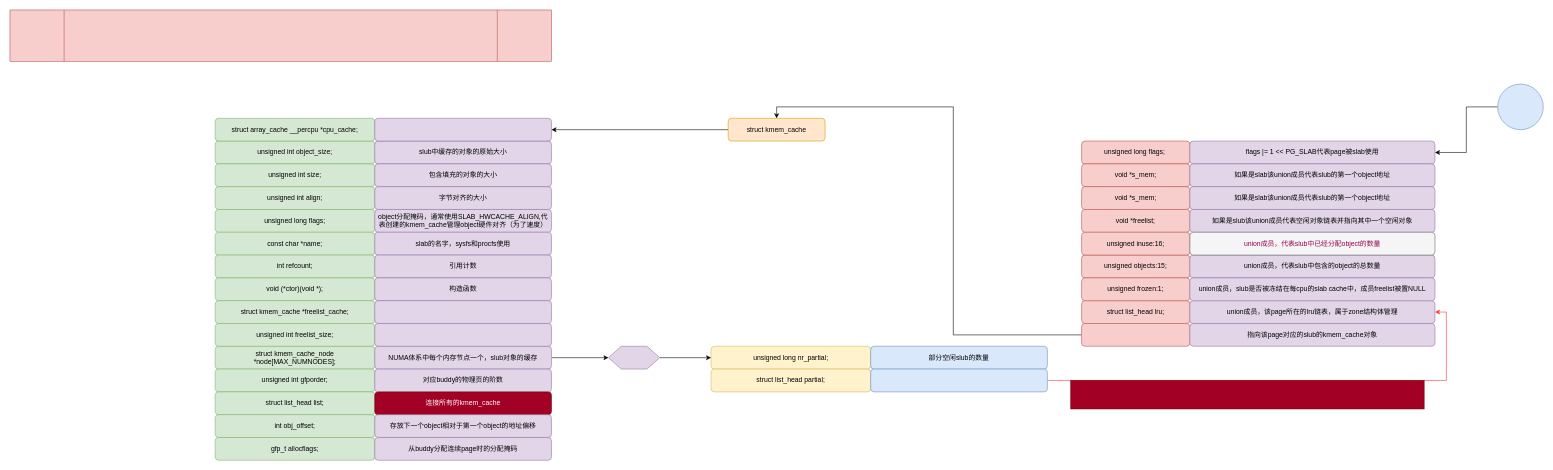
Some shapes in this 1553 by 470 pixel diagram are drawn without their labels. The centre of each missing label's shape, as x and y in pixels:
"file:slab_def.h" goes at pixel 280 35.
"kmem_cache最终是指向了物理页，和page对应的物理页一样，被zone结构的lru数组链表管理" goes at pixel 1247 394.
"node[0]" goes at pixel 634 357.
"struct kmem_cache *slab_cache;" goes at pixel 1135 334.
"struct page" goes at pixel 1520 107.
"每cpu cache，当进程分配对象优先从本地cpu分配，保证cache的命中率" goes at pixel 462 129.
"部分空闲slub链表，slab对应的page的lru指向该结构体" goes at pixel 958 380.
